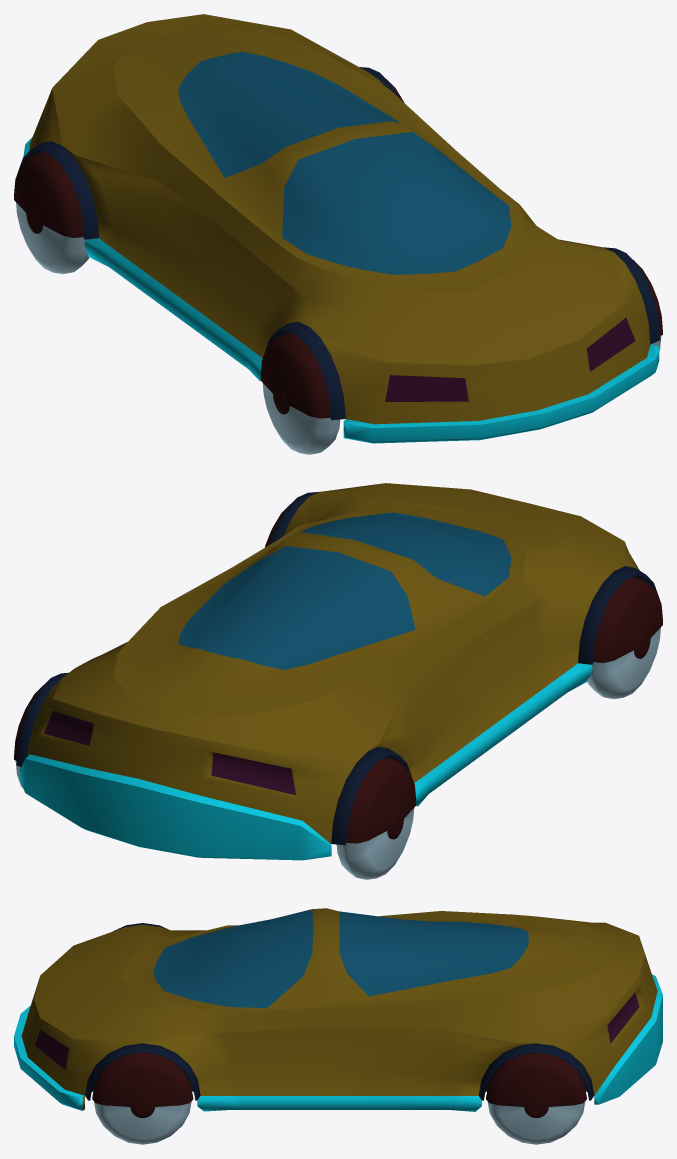
The model's file is ElectricToyCar.fbx.
3 renders of one model, top to bottom at view 1: azimuth 30°, elevation 25°; view 2: azimuth 150°, elevation 25°; view 3: azimuth 270°, elevation 25°, orthographic. The views are drawn at different scales.
Visible parts, largest first — view 1: Car1; view 2: Car1; view 3: Car1.
Boxes of the visible parts, <box> form: Car1: <box>14,14,662,454</box>; Car1: <box>14,483,662,879</box>; Car1: <box>14,908,662,1144</box>.
Size of the model in its own units: 6.82 by 3.49 by 13.19.
